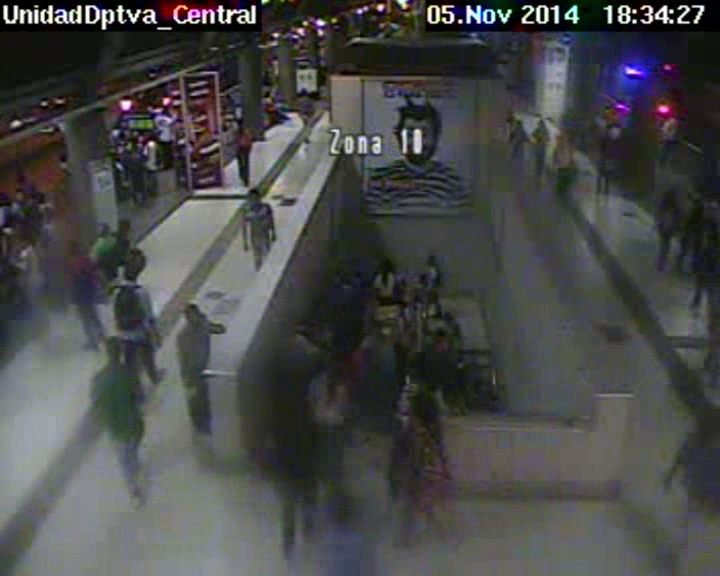person: (398, 384, 434, 420), (101, 335, 126, 363), (695, 406, 720, 434), (284, 325, 310, 349), (320, 352, 344, 373), (183, 303, 203, 323), (376, 323, 396, 343), (247, 187, 264, 207), (66, 241, 83, 258), (114, 218, 132, 234), (124, 263, 140, 280), (380, 258, 395, 276), (434, 330, 449, 347), (340, 279, 355, 296), (94, 224, 109, 239), (661, 185, 675, 200), (398, 273, 412, 288), (425, 290, 438, 305), (426, 252, 439, 266), (17, 234, 30, 247), (113, 121, 125, 134), (1, 189, 10, 205), (602, 125, 614, 137), (34, 193, 46, 205), (445, 312, 457, 324), (128, 142, 140, 153), (146, 131, 157, 142), (16, 192, 27, 203), (514, 119, 524, 131), (557, 133, 567, 144), (236, 118, 246, 129), (667, 111, 677, 121), (538, 119, 547, 129), (159, 110, 169, 117), (300, 90, 308, 98), (224, 92, 232, 100), (264, 91, 272, 98), (233, 89, 241, 96)
